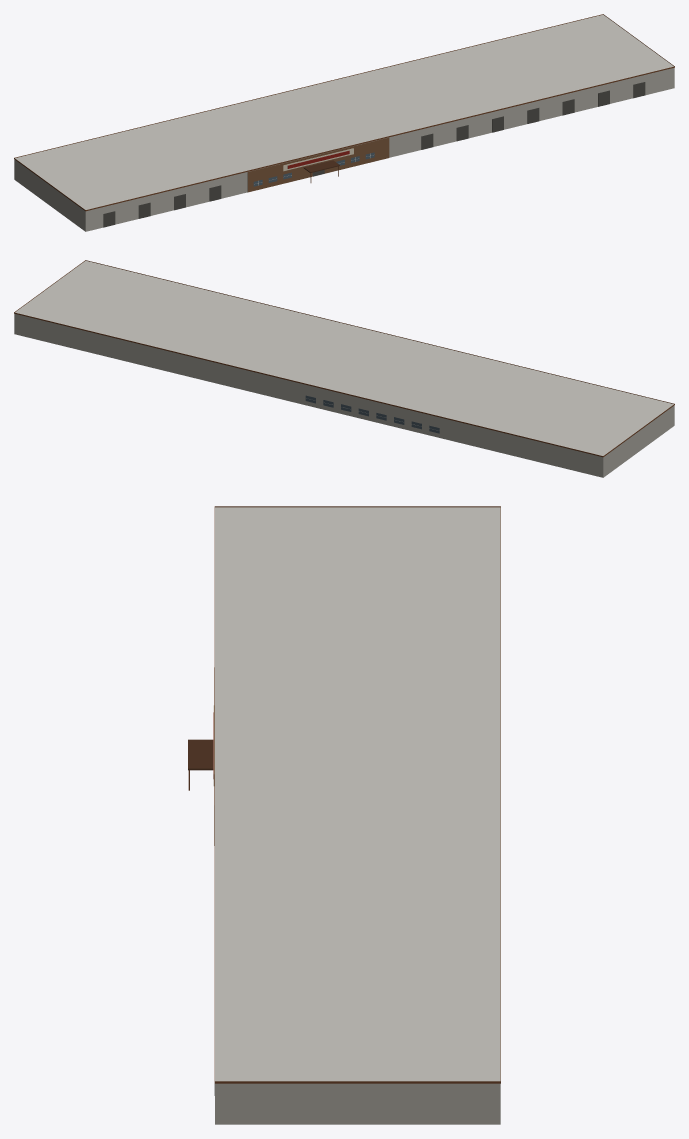
File: cajuns-wharf.glb
3 views of the same model, one above another, from view 1: azimuth 30°, elevation 25°; view 2: azimuth 150°, elevation 25°; view 3: azimuth 270°, elevation 25° (orthographic). The views are drawn at different scales.
Visible parts, largest first — view 1: cajuns_wharf; view 2: cajuns_wharf; view 3: cajuns_wharf.
Part boxes in pixels (left/top/right/bottom): cajuns_wharf: left=14, top=14, right=674, bottom=231; cajuns_wharf: left=14, top=260, right=674, bottom=477; cajuns_wharf: left=188, top=506, right=500, bottom=1124.
Bounding box in the file's own units: 200 × 7.05 × 46.06.
